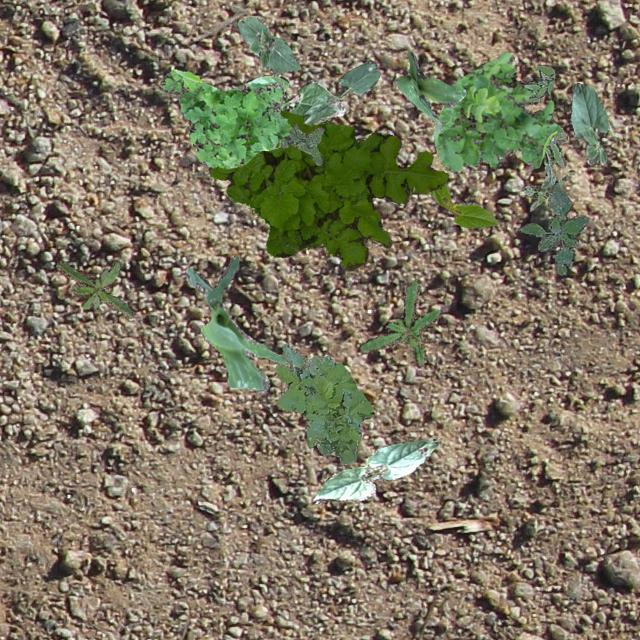crop: (185, 255, 288, 390), (312, 438, 436, 502), (394, 50, 464, 128), (302, 58, 380, 124), (244, 72, 344, 114), (236, 17, 300, 72), (570, 82, 608, 164), (428, 182, 496, 226)
weed: (208, 110, 448, 270), (432, 50, 558, 174), (160, 68, 290, 168), (274, 342, 374, 463), (360, 278, 440, 364), (518, 182, 588, 274), (54, 258, 132, 318), (524, 126, 570, 210), (280, 122, 322, 164), (524, 65, 554, 102)
